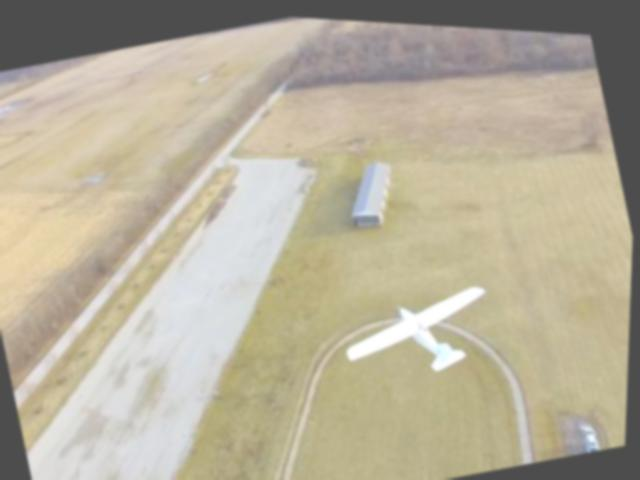uav: (332, 262, 514, 402)
